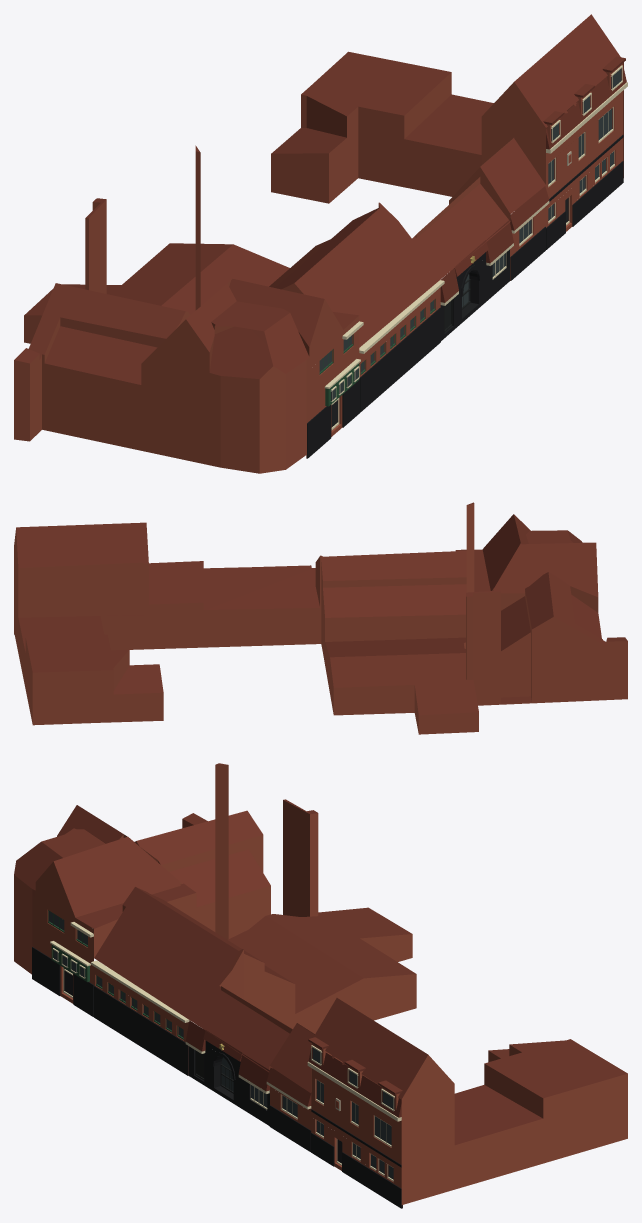
The model's file is splendor.glb.
The picture shows the model from 3 angles, top to bottom: view 1: azimuth 30°, elevation 25°; view 2: azimuth 150°, elevation 25°; view 3: azimuth 270°, elevation 25°; orthographic projection. The views are drawn at different scales.
Visible parts, largest first — view 1: splendor; view 2: splendor; view 3: splendor.
Part boxes in pixels (x1,y1,x2,y2): splendor: [14, 14, 627, 473]; splendor: [14, 502, 627, 734]; splendor: [14, 763, 627, 1208].
Size of the model in its own units: 56.2 by 17.35 by 45.41.
